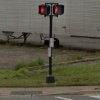Traffic light: (35, 0, 78, 25)
